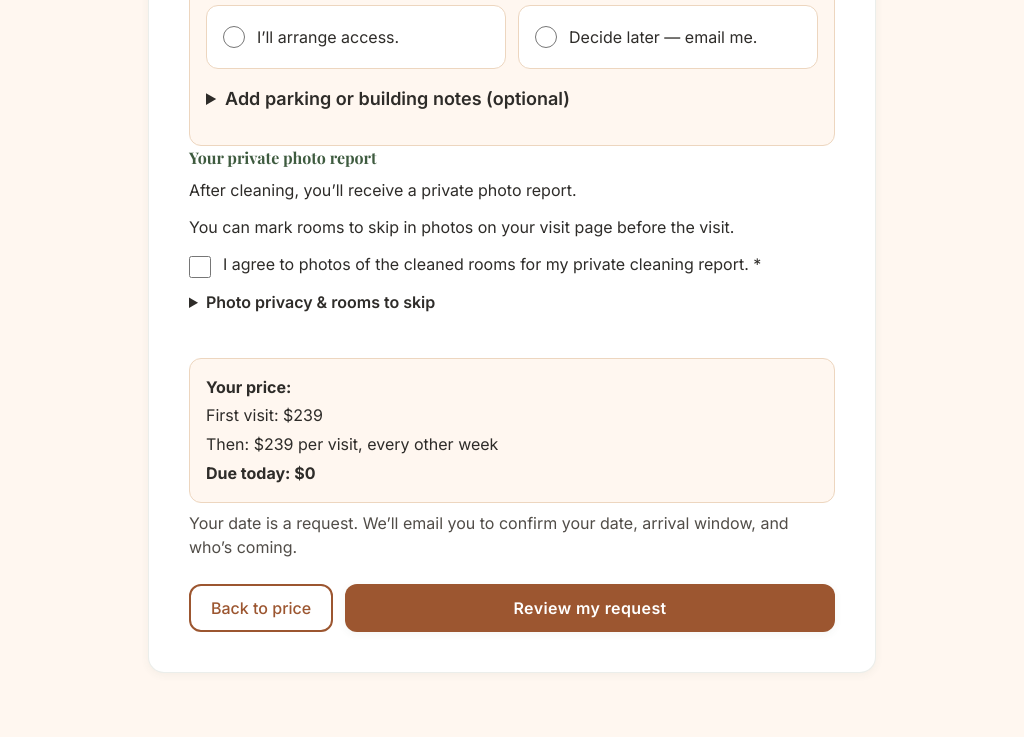
Test: booking price confirmation › restores the calculator and the visit details after reload
Earlier steps of the test are not shown.
(page scrolled)
Click the button "Back to price" at coordinates (261, 608), box [189,584,333,632]
(page scrolled)
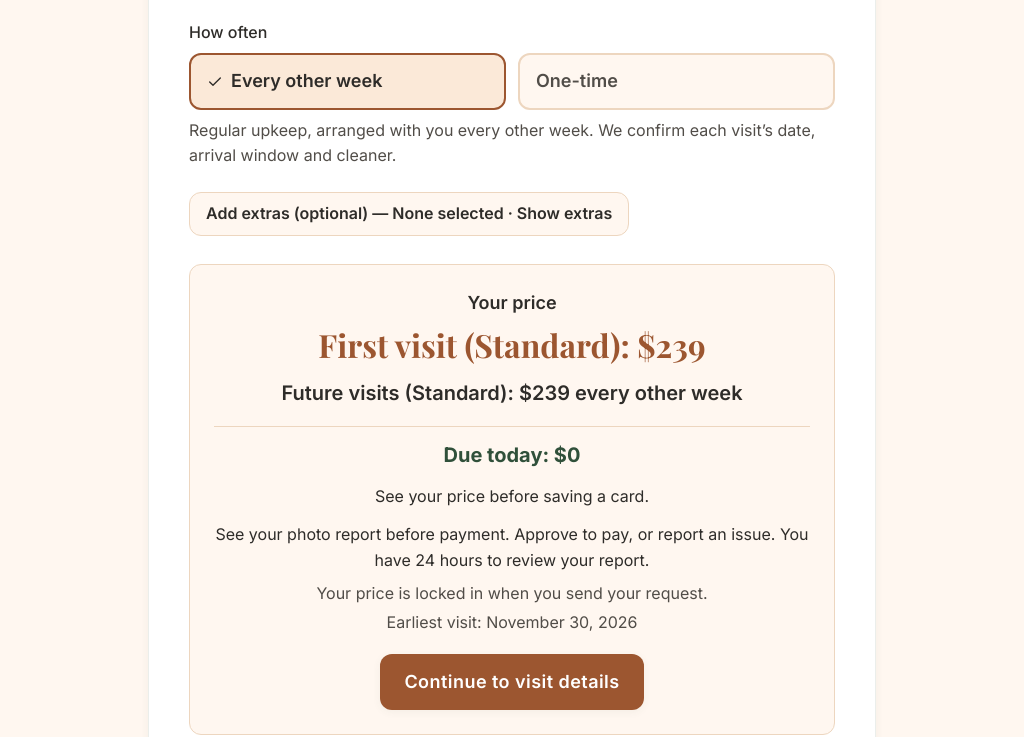
Now the text "First visit (Standard): $239" is shown, box [318,325,706,365]
